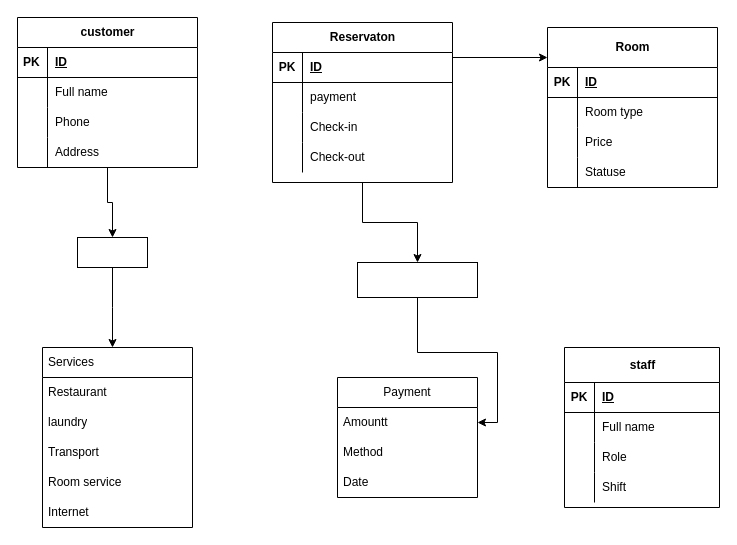
Some shapes in this 737 by 545 pixel diagram are drawn without their labels. Each missing label, with the centre of its shape:
"Assigns" belongs at (417,280).
"Makes" belongs at (112,252).
